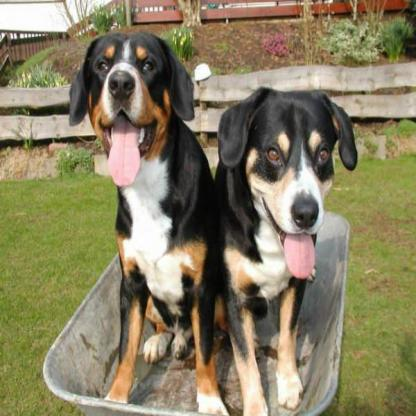EntleBucher: (69, 30, 228, 413), (212, 86, 356, 413)
